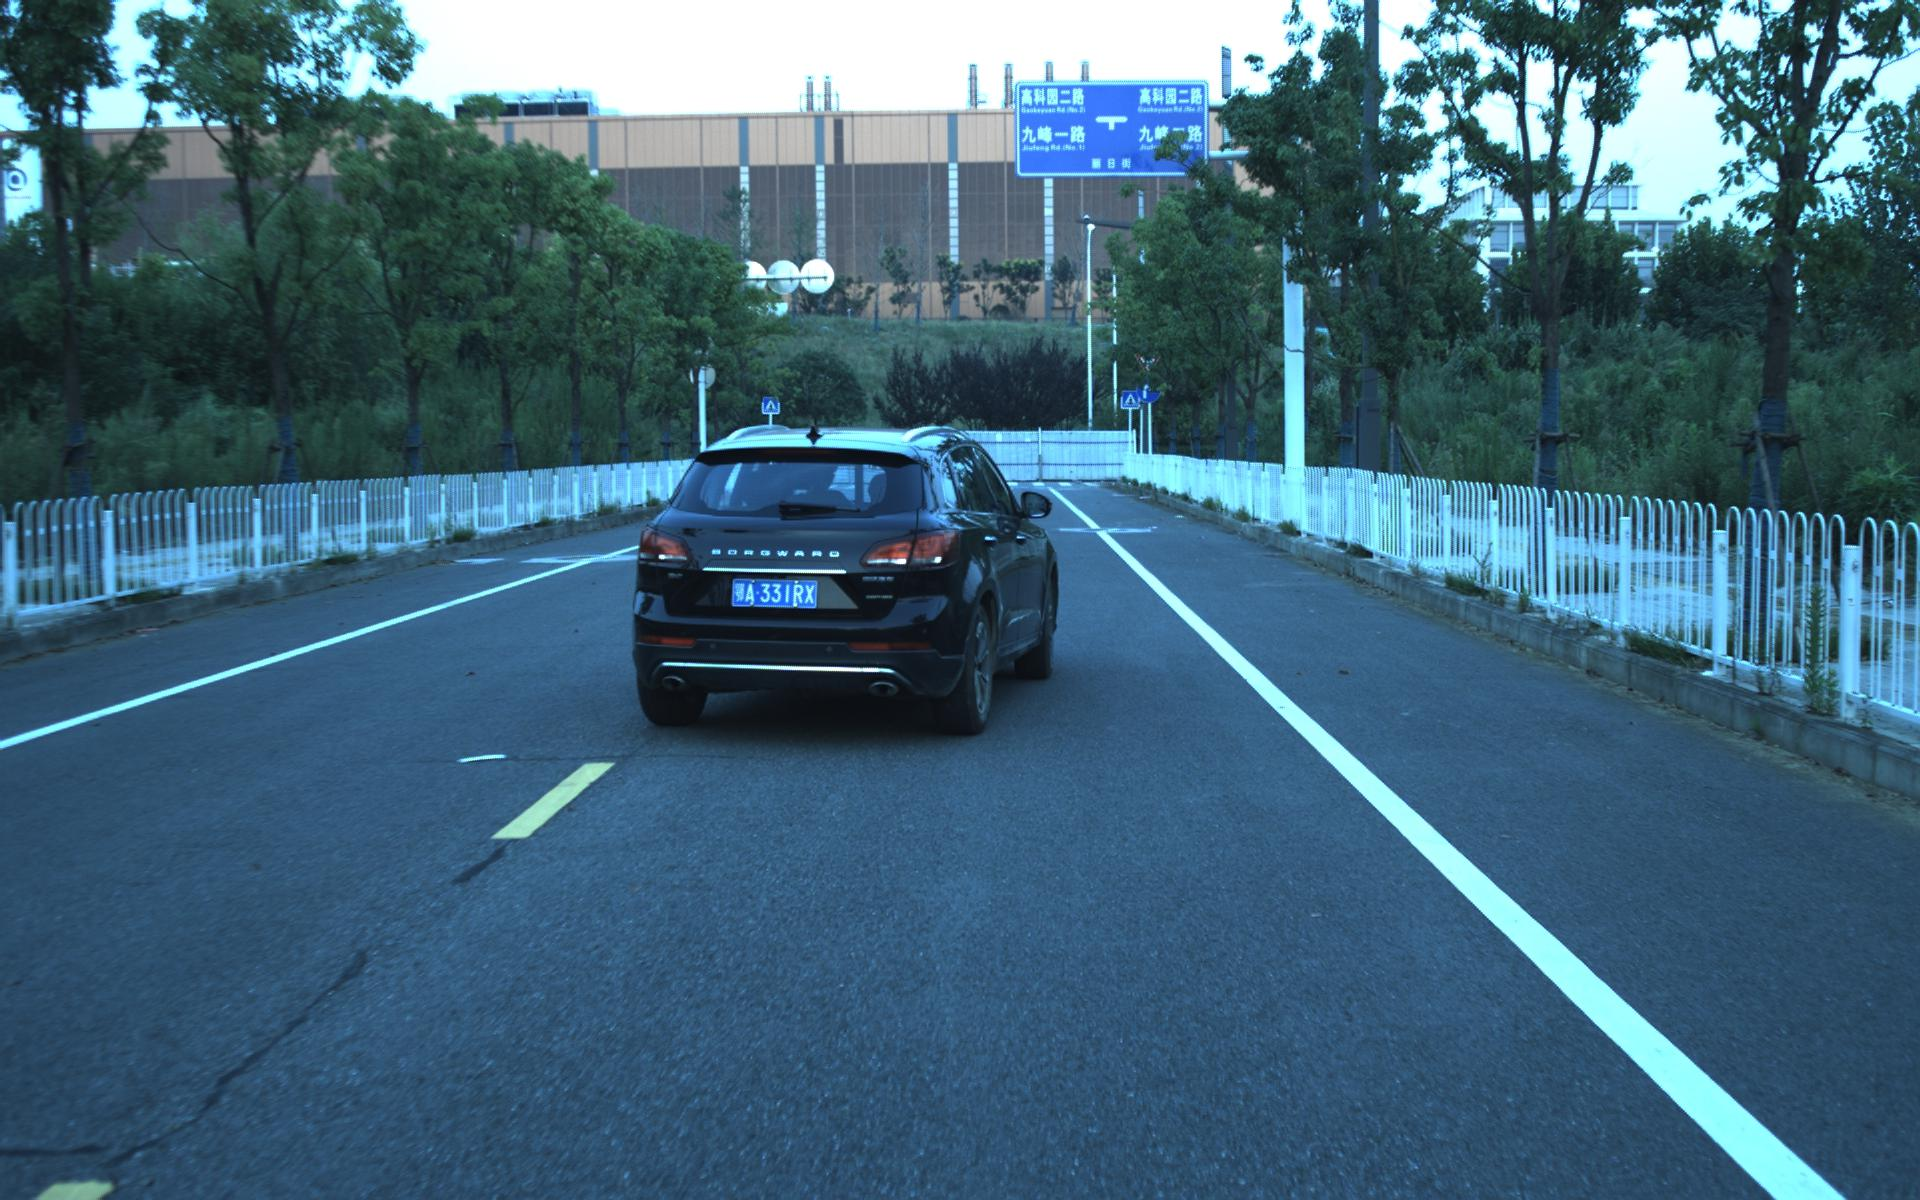Car: (617, 413, 1063, 745)
